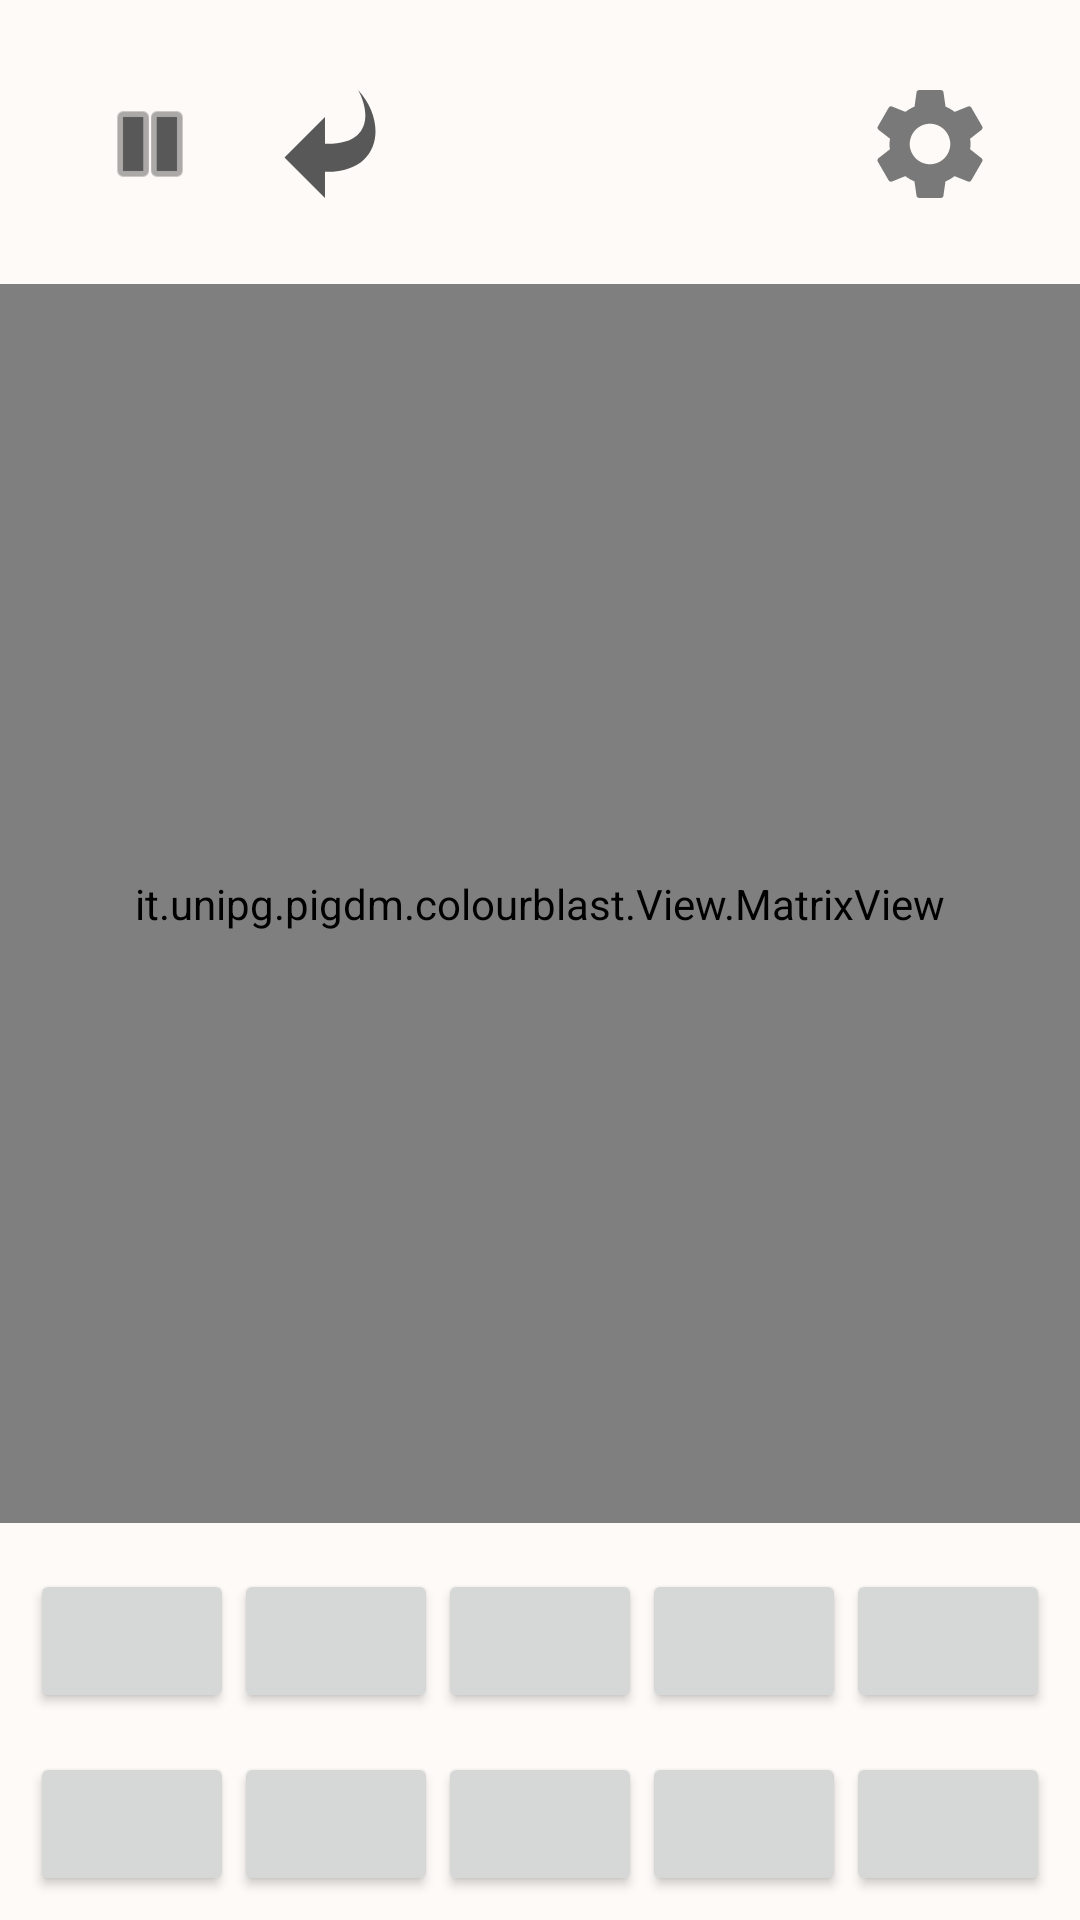

Named icons in this screenshot (1080*1920) and their centers, (x,y):
backarrow: (330,144)
pause: (150,144)
settings: (930,144)
